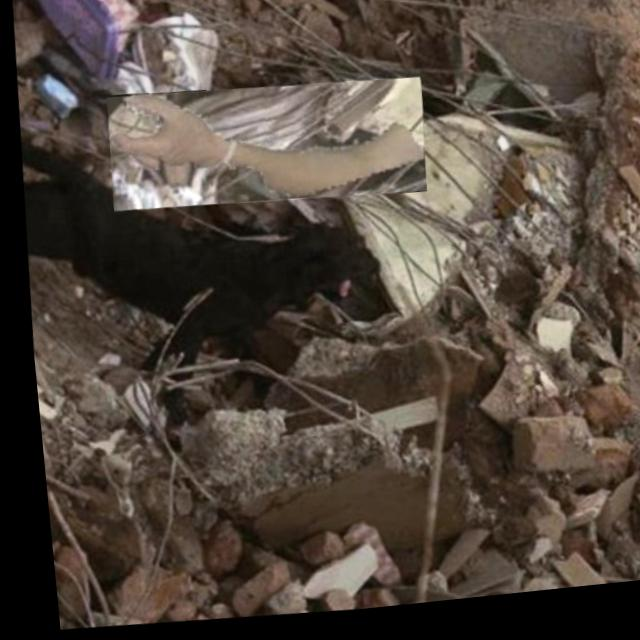Person in Rubble: (99, 74, 425, 225)
